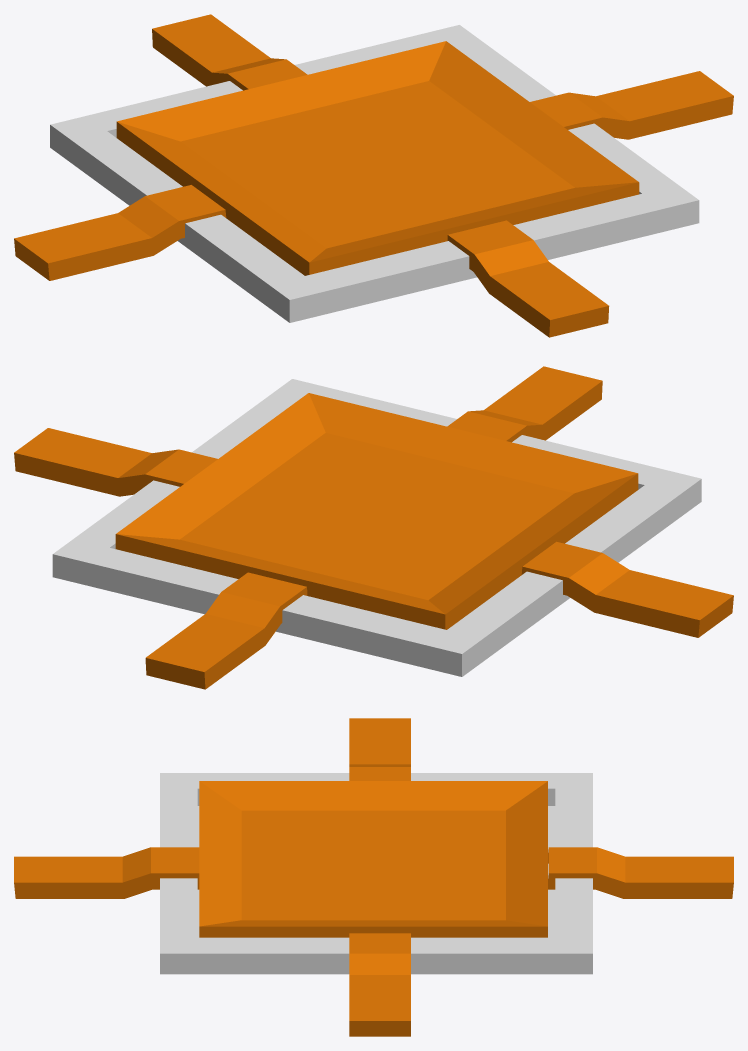
File: PressurePlate.fbx
3 renders of one model, top to bottom at view 1: azimuth 30°, elevation 25°; view 2: azimuth 150°, elevation 25°; view 3: azimuth 270°, elevation 25°, orthographic. The views are drawn at different scales.
Parts seen in each view (by area): view 1: Box002.001, Box002; view 2: Box002.001, Box002; view 3: Box002.001, Box002.
Part boxes in pixels (x1,y1,x2,y2): Box002.001: [116, 41, 639, 275]; Box002: [14, 14, 733, 337]; Box002.001: [115, 393, 638, 629]; Box002: [14, 366, 733, 689]; Box002.001: [199, 781, 547, 937]; Box002: [14, 718, 733, 1036].
Bounding box in the file's own units: 84.02 × 4.21 × 84.49.
